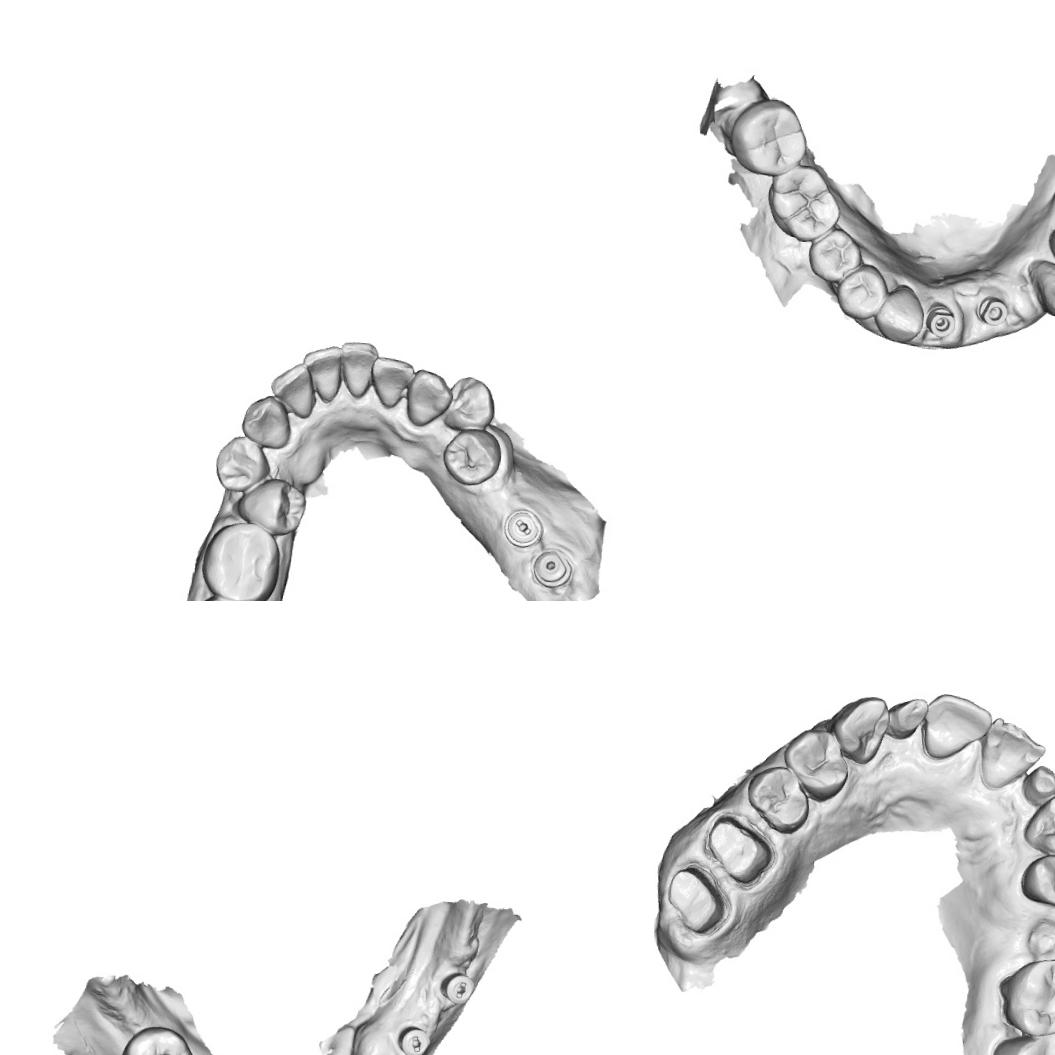canine: (824, 690, 888, 768), (871, 282, 926, 344), (402, 366, 455, 430), (238, 391, 294, 449), (1017, 786, 1055, 858), (1022, 255, 1055, 320)
crown: (702, 810, 780, 892), (662, 861, 732, 939), (882, 692, 929, 744), (1016, 760, 1055, 807)
implant: (529, 544, 575, 590), (923, 300, 959, 339), (438, 970, 477, 1005), (972, 294, 1009, 328)
implant_minus: (500, 507, 544, 549), (394, 1022, 432, 1055)
incisor: (975, 714, 1050, 795), (918, 690, 996, 766), (266, 360, 318, 420), (334, 338, 382, 401), (298, 342, 345, 403), (367, 354, 416, 410)
molar: (195, 516, 283, 601), (726, 94, 812, 180), (762, 161, 845, 244), (993, 950, 1055, 1041), (114, 1020, 204, 1055), (986, 1025, 1055, 1055)
premolar: (778, 722, 853, 804), (742, 759, 816, 838), (229, 472, 310, 538), (211, 430, 274, 495), (438, 426, 502, 488), (832, 260, 892, 324), (804, 224, 864, 286), (444, 371, 499, 434), (1014, 845, 1055, 910), (1043, 227, 1055, 278)
